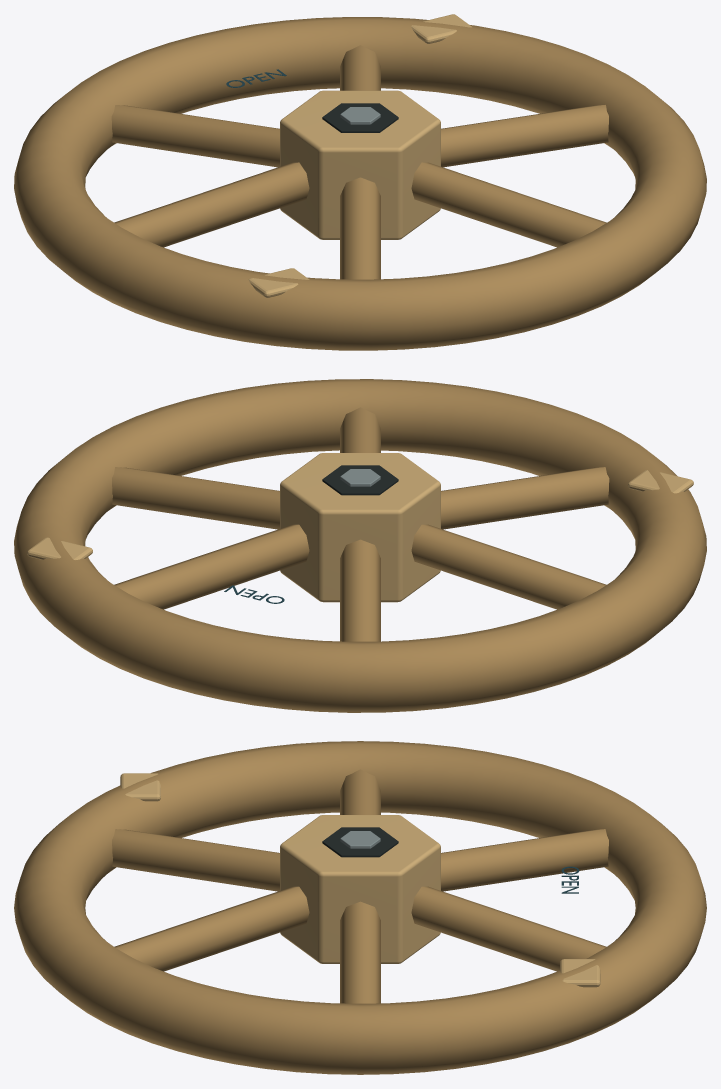
Rendered from valve.glb.
3 views of the same model, one above another, from view 1: azimuth 30°, elevation 25°; view 2: azimuth 150°, elevation 25°; view 3: azimuth 270°, elevation 25° (orthographic).
Visible parts, largest first — view 1: Cast brass handwheel rim, Valve hexagonal spindle boss, Cast radial spoke.003, Cast radial spoke.005, Cast radial spoke.002, Cast radial spoke, Cast radial spoke.004, Cast radial spoke.001, Spindle dark recess, Rim foundry grip.001, Rim foundry grip, Center fastening screw; view 2: Cast brass handwheel rim, Valve hexagonal spindle boss, Cast radial spoke.003, Cast radial spoke.001, Cast radial spoke.004, Cast radial spoke, Cast radial spoke.002, Cast radial spoke.005, Spindle dark recess, Rim foundry grip.001, Rim foundry grip, Center fastening screw; view 3: Cast brass handwheel rim, Valve hexagonal spindle boss, Cast radial spoke.005, Cast radial spoke.001, Cast radial spoke.004, Cast radial spoke.002, Cast radial spoke, Cast radial spoke.003, Spindle dark recess, Rim foundry grip, Rim foundry grip.001, Center fastening screw.
Part boxes in pixels (left/top/right/bottom): Cast brass handwheel rim: left=14, top=17, right=706, bottom=350; Valve hexagonal spindle boss: left=280, top=90, right=440, bottom=239; Cast radial spoke.003: left=114, top=162, right=309, bottom=247; Cast radial spoke.005: left=411, top=162, right=606, bottom=247; Cast radial spoke.002: left=111, top=105, right=279, bottom=167; Cast radial spoke: left=441, top=105, right=608, bottom=167; Cast radial spoke.004: left=340, top=177, right=380, bottom=279; Cast radial spoke.001: left=340, top=45, right=380, bottom=90; Spindle dark recess: left=322, top=103, right=398, bottom=132; Rim foundry grip.001: left=248, top=268, right=309, bottom=297; Rim foundry grip: left=411, top=14, right=471, bottom=43; Center fastening screw: left=340, top=107, right=380, bottom=124; Cast brass handwheel rim: left=14, top=379, right=706, bottom=712; Valve hexagonal spindle boss: left=280, top=453, right=440, bottom=602; Cast radial spoke.003: left=411, top=524, right=606, bottom=609; Cast radial spoke.001: left=114, top=524, right=309, bottom=609; Cast radial spoke.004: left=441, top=467, right=609, bottom=529; Cast radial spoke: left=112, top=467, right=279, bottom=529; Cast radial spoke.002: left=340, top=539, right=380, bottom=641; Cast radial spoke.005: left=340, top=407, right=380, bottom=452; Spindle dark recess: left=322, top=465, right=398, bottom=495; Rim foundry grip.001: left=628, top=470, right=693, bottom=493; Rim foundry grip: left=27, top=537, right=92, bottom=559; Center fastening screw: left=340, top=469, right=380, bottom=486; Cast brass handwheel rim: left=14, top=741, right=706, bottom=1074; Valve hexagonal spindle boss: left=280, top=815, right=440, bottom=963; Cast radial spoke.005: left=114, top=886, right=309, bottom=971; Cast radial spoke.001: left=411, top=886, right=606, bottom=971; Cast radial spoke.004: left=112, top=829, right=279, bottom=891; Cast radial spoke.002: left=441, top=829, right=608, bottom=891; Cast radial spoke: left=340, top=901, right=380, bottom=1003; Cast radial spoke.003: left=340, top=769, right=380, bottom=814; Spindle dark recess: left=322, top=827, right=398, bottom=857; Rim foundry grip: left=560, top=959, right=600, bottom=987; Rim foundry grip.001: left=120, top=773, right=160, bottom=801; Center fastening screw: left=340, top=831, right=380, bottom=848.
Size of the model in its own units: 0.136 by 0.0221 by 0.136.
